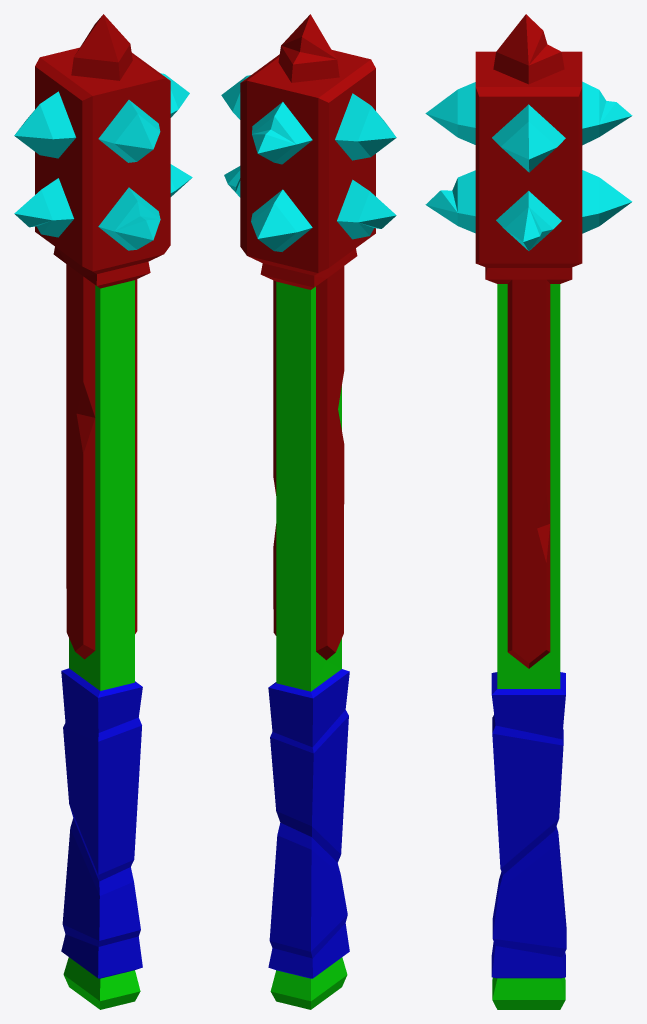
File: Mace_Uncommon_Magistone.fbx
The picture shows the model from 3 angles, left to right: view 1: azimuth 30°, elevation 25°; view 2: azimuth 150°, elevation 25°; view 3: azimuth 270°, elevation 25°; orthographic projection.
Visible parts, largest first — view 1: SM_Wep_Mace_01; view 2: SM_Wep_Mace_01; view 3: SM_Wep_Mace_01.
Boxes of the visible parts, x1,y1,x2,y2 form: SM_Wep_Mace_01: (14,14,192,1009); SM_Wep_Mace_01: (221,14,396,1009); SM_Wep_Mace_01: (425,14,632,1009).
Bounding box in the file's own units: 14.69 × 78.28 × 14.88.
